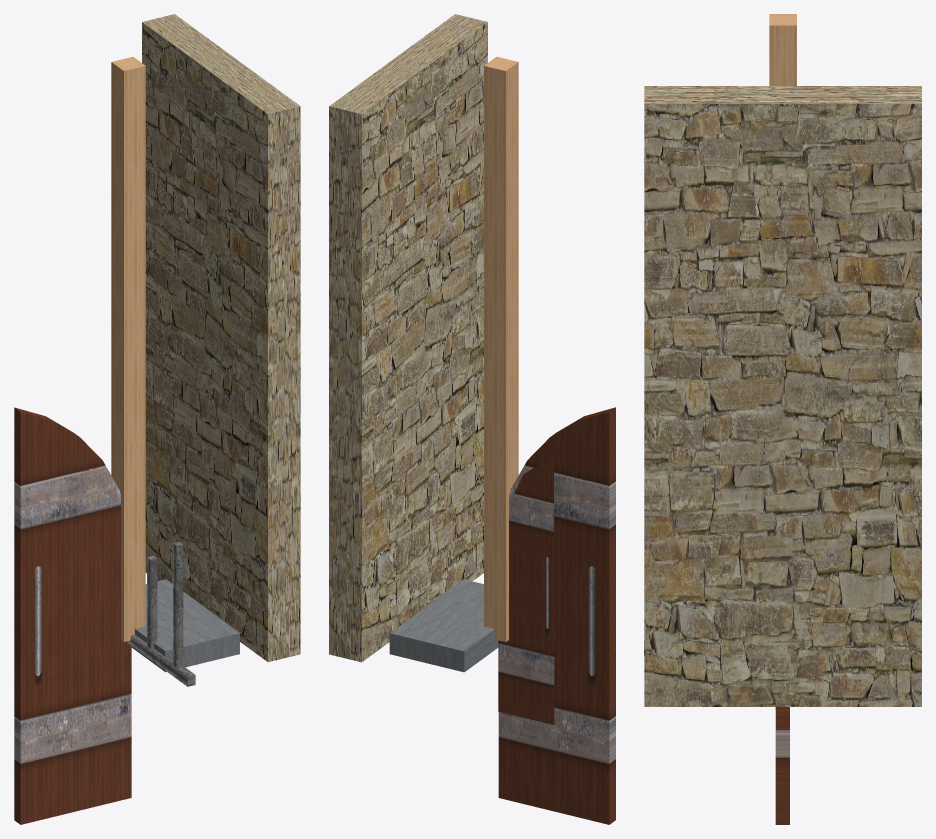
The model's file is rest.FBX.
3 views of the same model, side by side, from view 1: azimuth 30°, elevation 25°; view 2: azimuth 150°, elevation 25°; view 3: azimuth 270°, elevation 25° (orthographic). The views are drawn at different scales.
Visible parts, largest first — view 1: Box099, Line022, Box097, Window Base012, Box098; view 2: Box099, Line022, Box097, Window Shutter L012, Window Base012; view 3: Box099, Box097, Line022.
Boxes of the visible parts, x1,y1,x2,y2 form: Box099: [142, 14, 300, 662]; Line022: [14, 407, 131, 824]; Box097: [111, 56, 145, 641]; Window Base012: [131, 579, 239, 672]; Box098: [127, 541, 195, 686]; Box099: [329, 14, 487, 662]; Line022: [498, 407, 615, 824]; Box097: [484, 56, 518, 641]; Window Shutter L012: [498, 455, 554, 724]; Window Base012: [389, 579, 498, 672]; Box099: [644, 86, 921, 706]; Box097: [769, 14, 796, 85]; Line022: [775, 707, 789, 824].
Bounding box in the file's own units: 1.01 × 1 × 3.2.
Materials: 5 (5 with a texture image).
